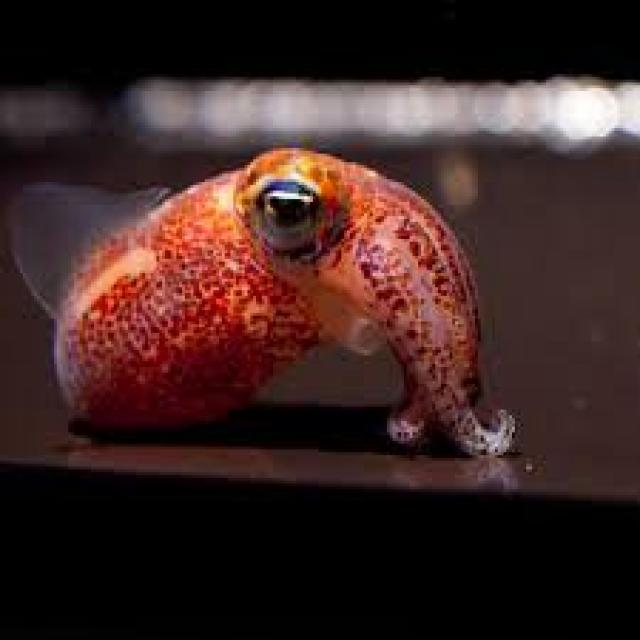squid: (9, 148, 512, 452)
